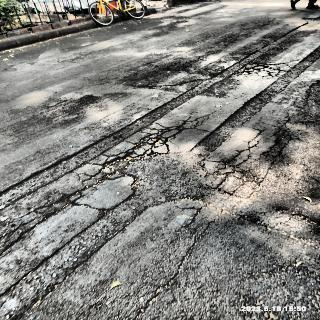alligator-crack: (0, 113, 214, 257), (212, 111, 302, 199), (233, 57, 296, 81)
crack: (132, 210, 229, 320)
